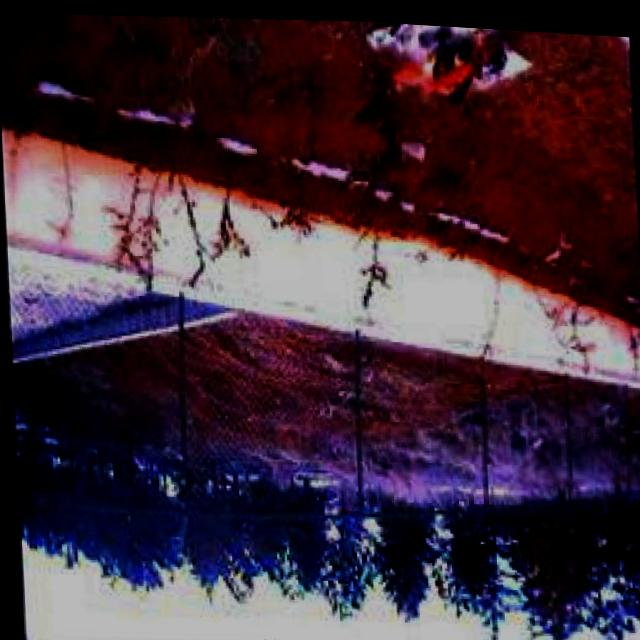helmet: (388, 20, 509, 102)
